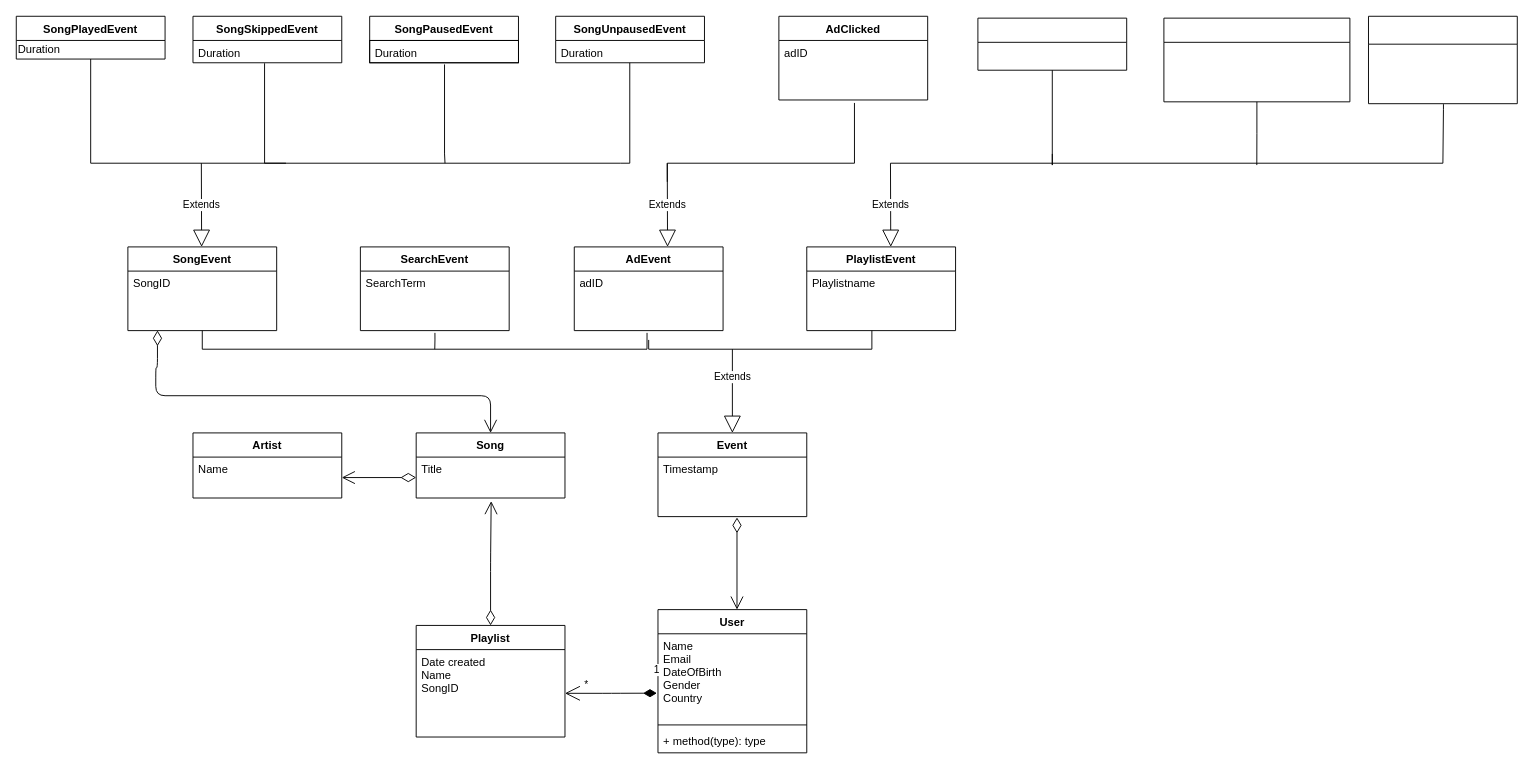
The diagram is 1534 pixels wide and 772 high, and some of its shapes have lost their labels. The centre of each missing label's shape, as x and y in pixels:
"AddedToPlaylistEvent" goes at [1052,43].
"PlaylistCreatedEvent" goes at [1442,59].
"RemovedFromPlaylistEvent" goes at [1256,59].
